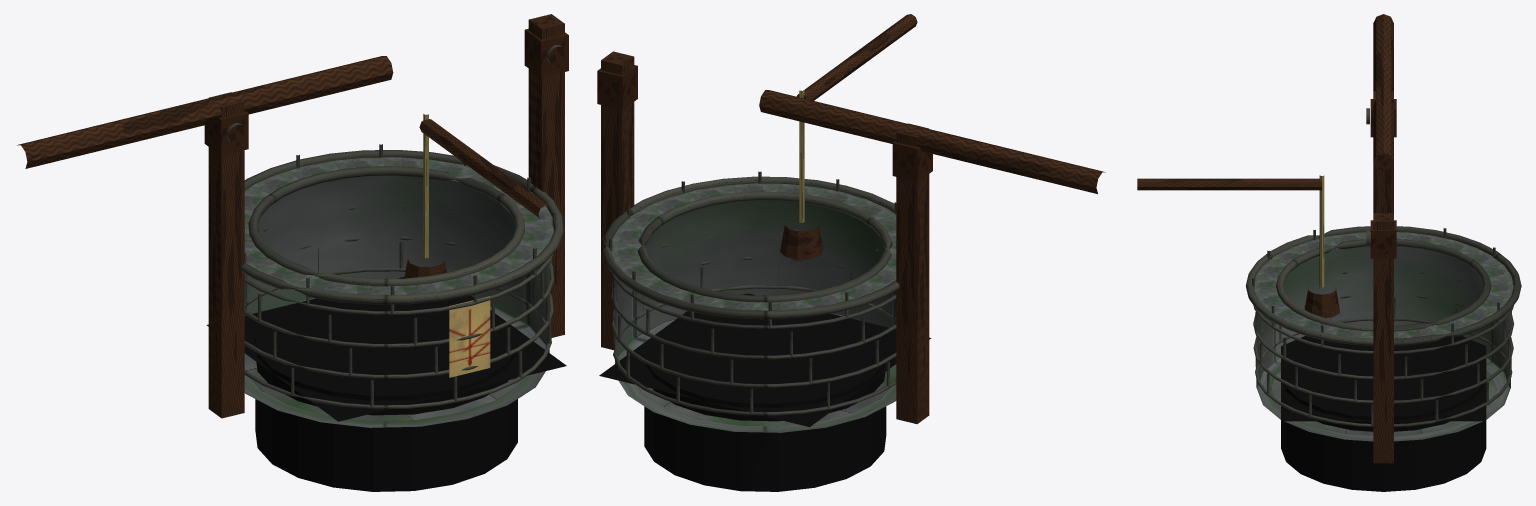
The model's file is stone_well.glb.
The picture shows the model from 3 angles, left to right: view 1: azimuth 30°, elevation 25°; view 2: azimuth 150°, elevation 25°; view 3: azimuth 270°, elevation 25°; orthographic projection. The views are drawn at different scales.
Visible parts, largest first — view 1: Ring, Art_StoneLedge, HoleBottom, Hole, Post-7, Crossbar, Rim, Post7, Art_WarmWood, Talisman, Axle, Rope; view 2: Ring, Art_StoneLedge, HoleBottom, Hole, Post-7, Crossbar, Rim, Post7, Art_WarmWood, Axle, Bucket, Rope; view 3: Ring, Art_StoneLedge, HoleBottom, Hole, Rim, Post7, Crossbar, Axle, Art_WarmWood, Post-7, Bucket, Rope.
Part boxes in pixels (left/top/right/bottom): Ring: left=244, top=175, right=549, bottom=427; Art_StoneLedge: left=240, top=144, right=563, bottom=409; HoleBottom: left=206, top=277, right=566, bottom=421; Hole: left=255, top=336, right=517, bottom=491; Post-7: left=208, top=92, right=244, bottom=418; Crossbar: left=17, top=56, right=393, bottom=168; Rim: left=244, top=157, right=553, bottom=295; Post7: left=528, top=14, right=564, bottom=337; Art_WarmWood: left=204, top=28, right=568, bottom=155; Talisman: left=449, top=296, right=490, bottom=377; Axle: left=419, top=119, right=549, bottom=218; Rope: left=423, top=114, right=428, bottom=258; Ring: left=615, top=200, right=896, bottom=432; Art_StoneLedge: left=602, top=171, right=899, bottom=415; HoleBottom: left=599, top=293, right=931, bottom=427; Hole: left=644, top=348, right=886, bottom=491; Post-7: left=896, top=123, right=929, bottom=423; Crossbar: left=759, top=90, right=1105, bottom=193; Rim: left=611, top=183, right=896, bottom=310; Post7: left=601, top=51, right=634, bottom=350; Art_WarmWood: left=597, top=65, right=932, bottom=181; Axle: left=796, top=14, right=917, bottom=100; Bucket: left=780, top=224, right=823, bottom=259; Rope: left=799, top=90, right=804, bottom=223; Ring: left=1256, top=246, right=1510, bottom=441; Art_StoneLedge: left=1246, top=226, right=1521, bottom=426; HoleBottom: left=1281, top=336, right=1486, bottom=421; Hole: left=1281, top=375, right=1486, bottom=491; Rim: left=1254, top=232, right=1513, bottom=338; Post7: left=1373, top=213, right=1393, bottom=463; Crossbar: left=1373, top=14, right=1393, bottom=171; Axle: left=1137, top=178, right=1321, bottom=190; Art_WarmWood: left=1370, top=99, right=1396, bottom=258; Post-7: left=1373, top=91, right=1393, bottom=212; Bucket: left=1304, top=287, right=1339, bottom=318; Rope: left=1319, top=175, right=1324, bottom=287.
Size of what is drawn, in the model's own units: 2.36 by 1.59 by 1.87.
8 materials, 7 textured.
